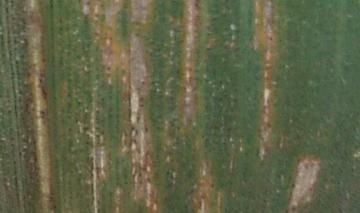tarspot: (37, 68, 50, 101), (38, 109, 48, 120), (194, 1, 201, 10)
